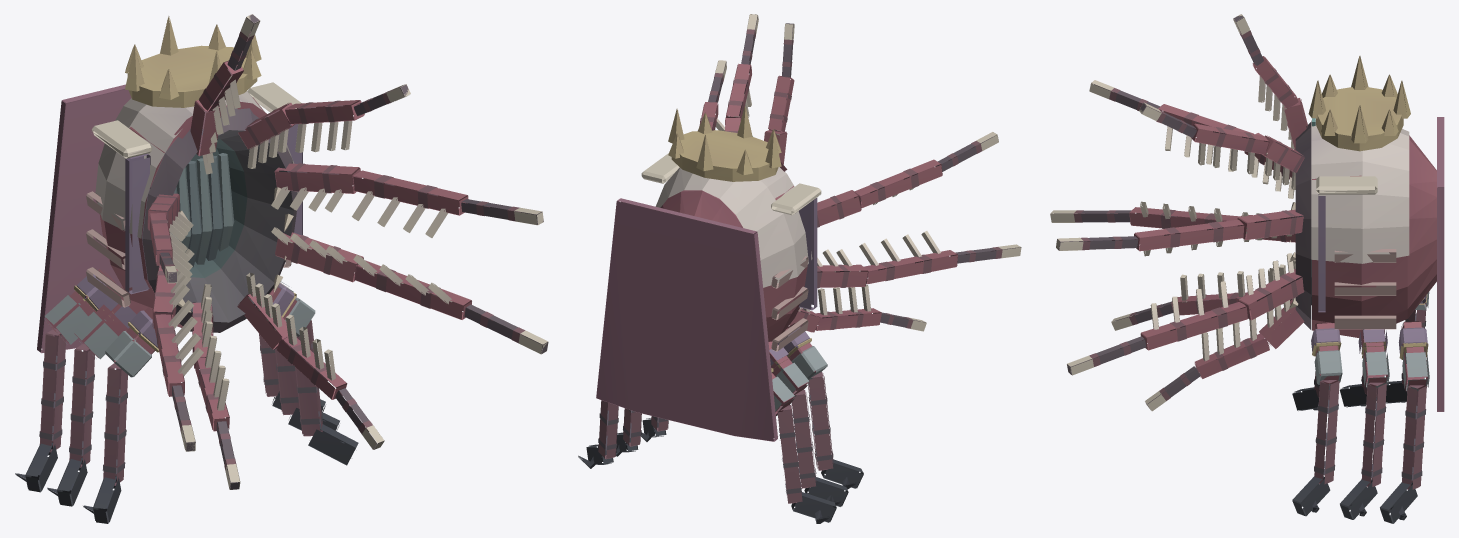
The model's file is AdaptedVisceraKing.glb.
3 renders of one model, left to right at view 1: azimuth 30°, elevation 25°; view 2: azimuth 150°, elevation 25°; view 3: azimuth 270°, elevation 25°, orthographic. The views are drawn at different scales.
Visible parts, largest first — view 1: Body, LegR, ArmR, ArmL, LegL; view 2: Body, ArmR, LegR, LegL, ArmL; view 3: Body, LegL, ArmL, LegR, ArmR.
Boxes of the visible parts, box(x1,y1,x2,y2) form: Body: box(37, 14, 548, 506); LegR: box(15, 269, 115, 492); ArmR: box(83, 307, 159, 523); ArmL: box(268, 284, 358, 465); LegL: box(259, 334, 325, 412); Body: box(596, 14, 1021, 507); ArmR: box(777, 323, 863, 489); LegR: box(771, 368, 836, 523); LegL: box(578, 400, 618, 468); ArmL: box(641, 416, 668, 441); Body: box(1050, 14, 1444, 519); LegL: box(1380, 321, 1429, 523); ArmL: box(1292, 322, 1342, 516); LegR: box(1385, 292, 1429, 403); ArmR: box(1292, 371, 1329, 410).
Size of the model in its own units: 8.02 by 10.39 by 8.4.
